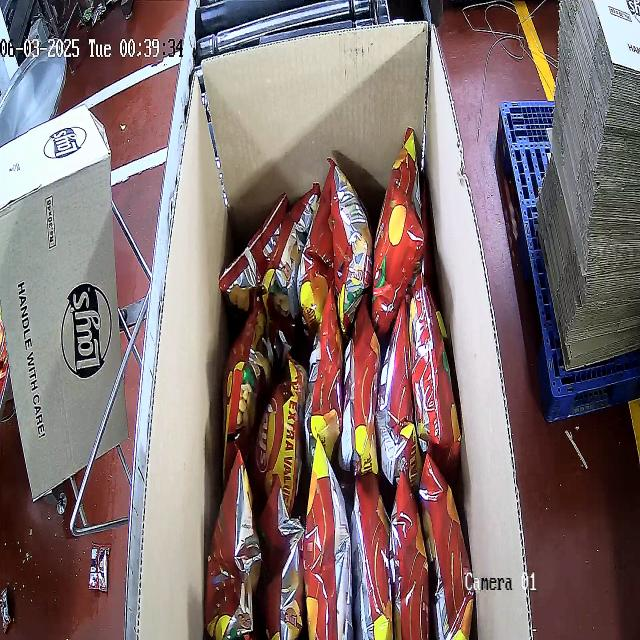MASALA: (206, 128, 474, 638)
